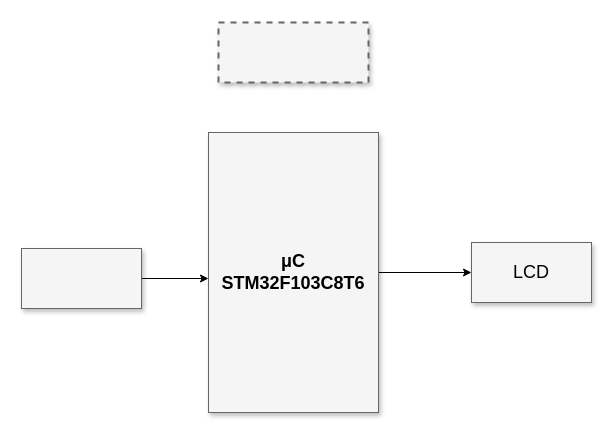
The diagram is 615 pixels wide and 437 high, and some of its shapes have lost their labels. Each missing label, with the centre of its shape:
Keypad: point (82, 280)
Software Control: point (294, 53)
